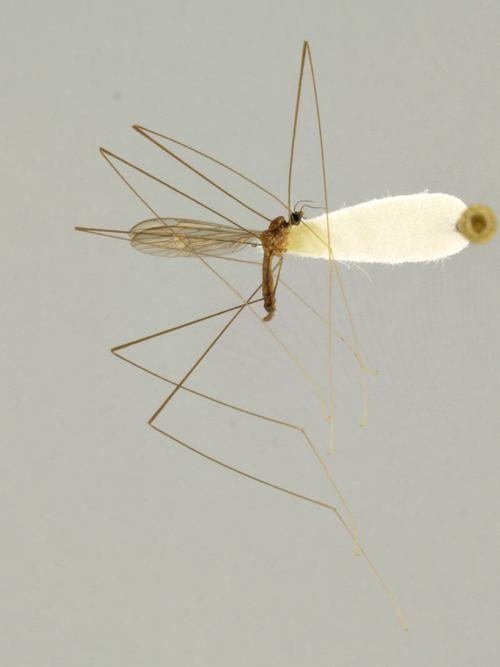Cecidomyiidae: (71, 42, 415, 637)
